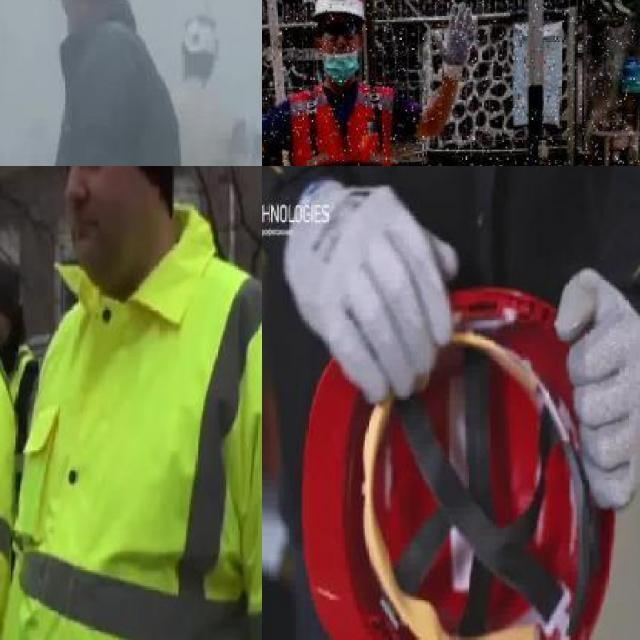apron: (290, 174, 460, 406), (553, 260, 640, 517), (431, 2, 479, 81)
